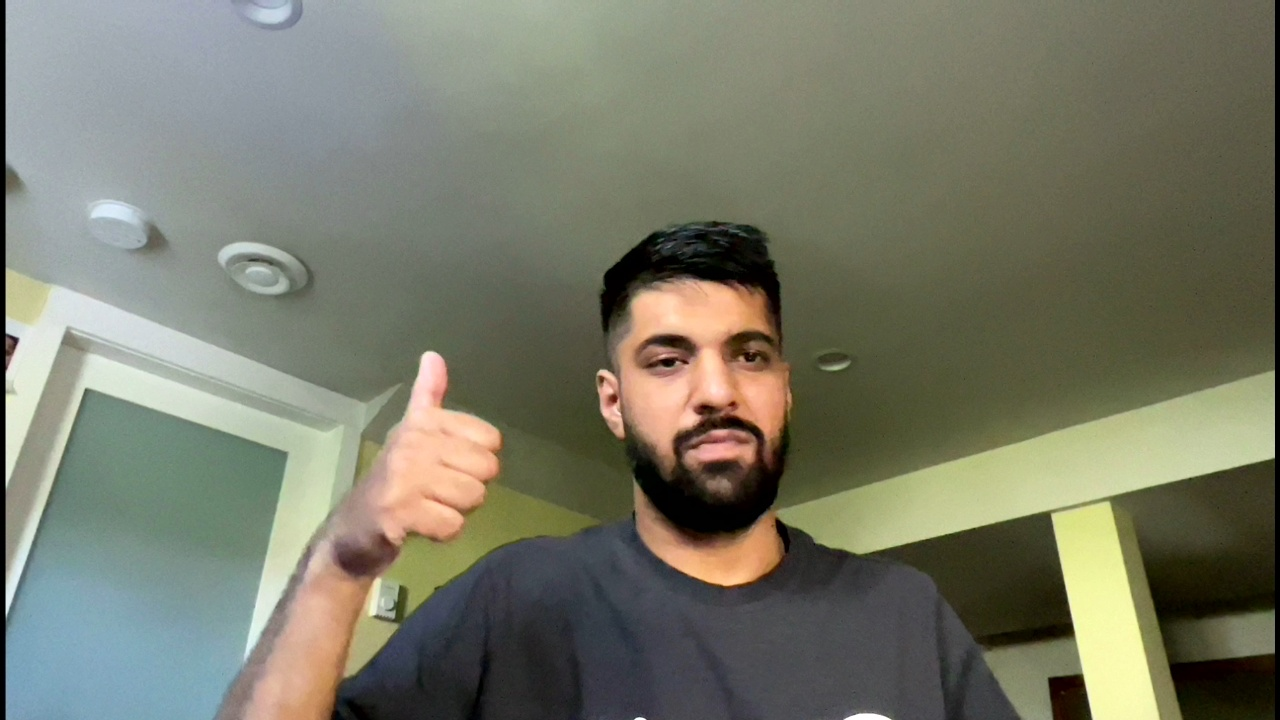Yes: (318, 348, 514, 575)
